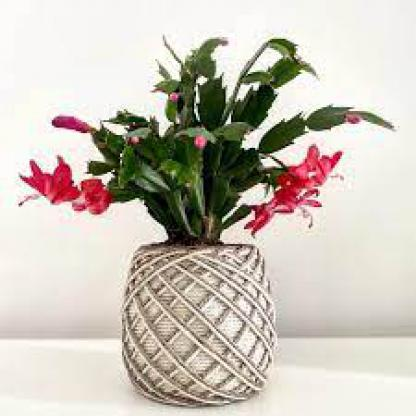Holiday Cactus: (14, 10, 391, 243)
